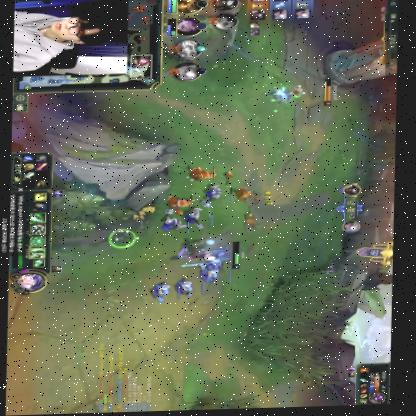streamer: (14, 8, 117, 71)
